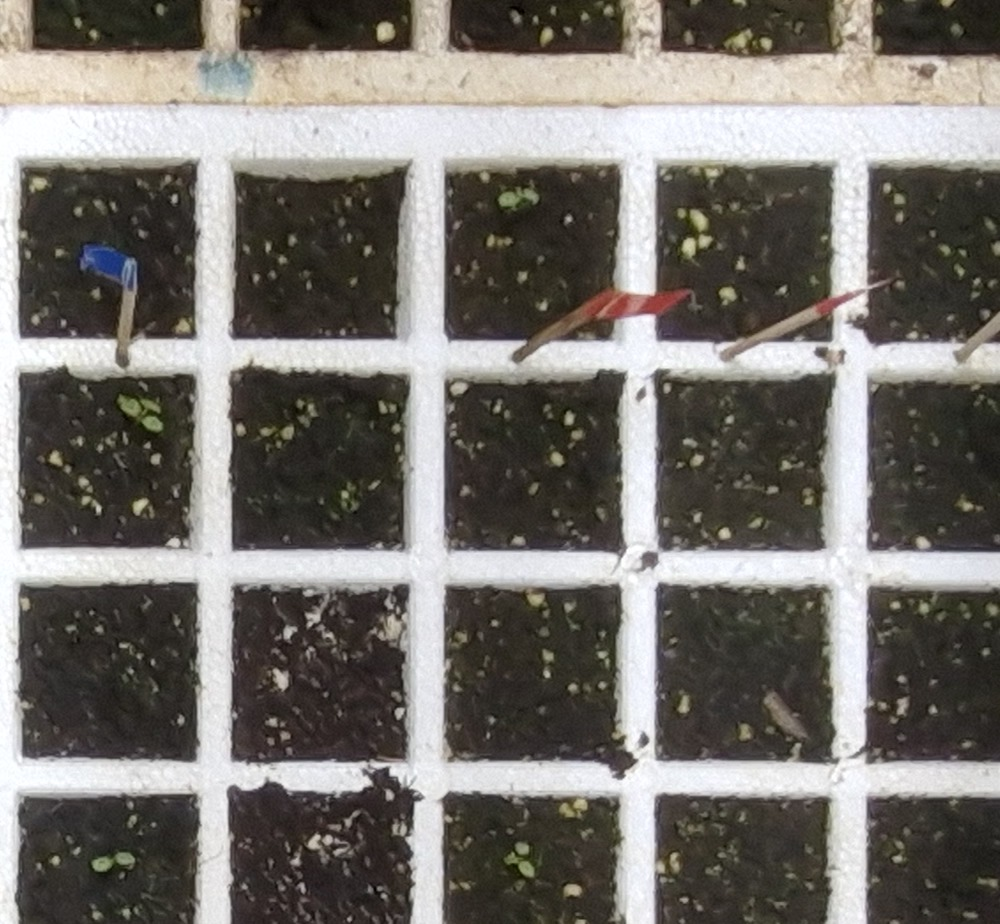Folha: (139, 398, 162, 414), (121, 398, 141, 415), (92, 856, 113, 872), (144, 417, 163, 433), (519, 860, 535, 878), (499, 192, 516, 206), (116, 852, 135, 864), (503, 853, 519, 864), (524, 190, 537, 202), (515, 844, 529, 853)
Germinacao: (118, 395, 163, 434), (504, 841, 536, 878), (497, 186, 540, 205), (92, 853, 134, 870)
